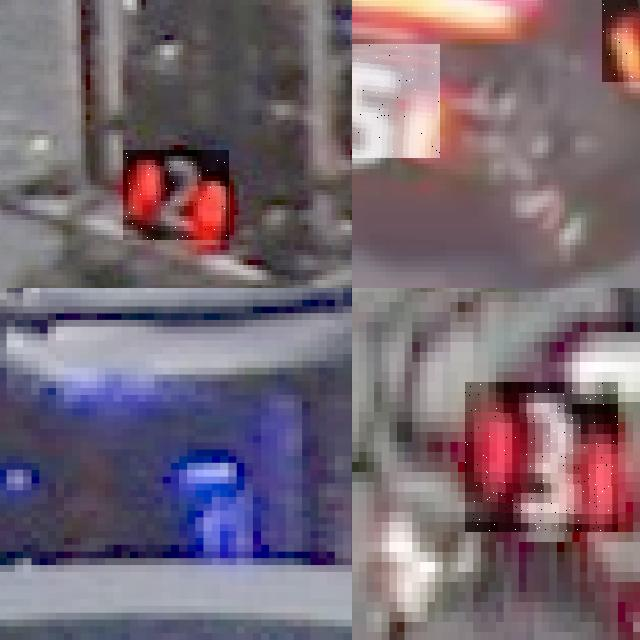R2: (123, 150, 229, 240)
R3: (465, 382, 618, 532)
R5: (352, 44, 439, 158), (602, 0, 640, 82)
